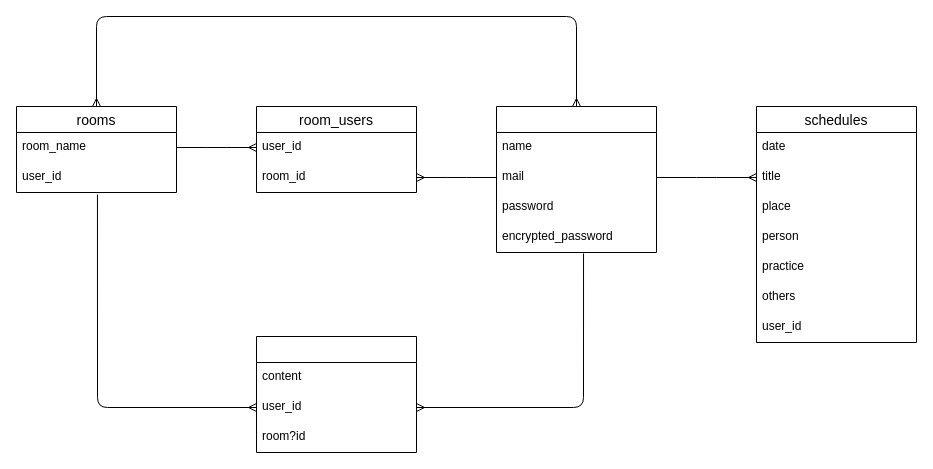
Some shapes in this 933 by 469 pixel diagram are drawn without their labels. Here are the shapes that lost their labels. From the top down, the box of each, then its label:
(496, 106, 656, 252): users
(256, 336, 416, 452): messages
